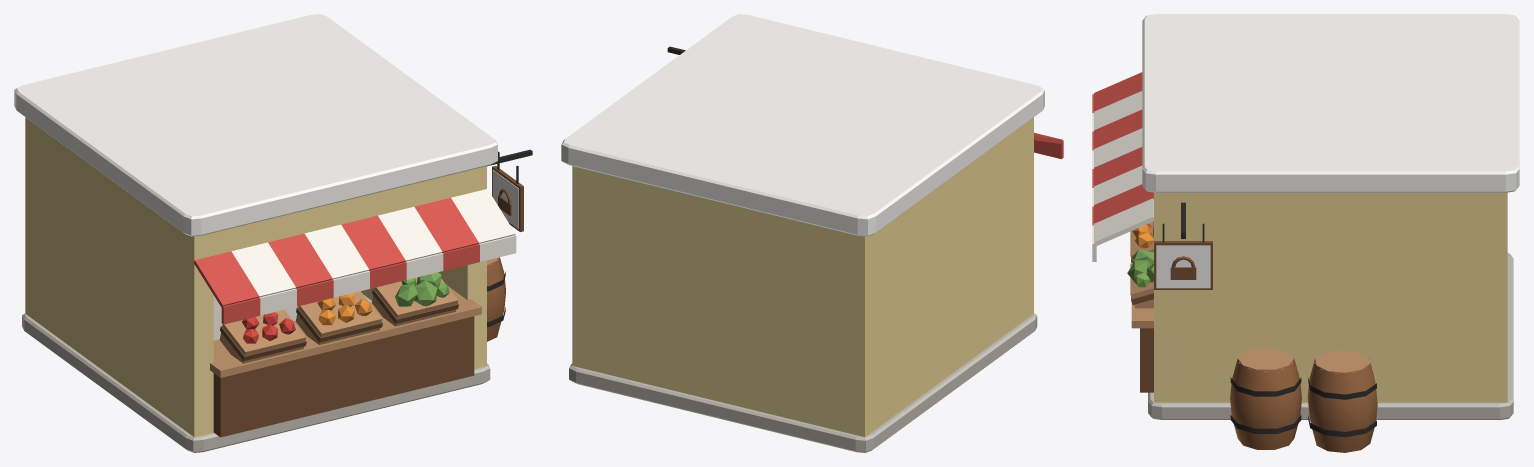
Rendered from market_hall.glb.
3 renders of one model, left to right at view 1: azimuth 30°, elevation 25°; view 2: azimuth 150°, elevation 25°; view 3: azimuth 270°, elevation 25°, orthographic. The views are drawn at different scales.
Visible parts, largest first — view 1: roof_slab, wall_left, awning, counter_body, plinth, front_fascia, counter_top, wall_right, wall_back, crate_apples_box, crate_oranges_box, crate_greens_box (+5 smaller); view 2: roof_slab, wall_back, wall_left, plinth, awning; view 3: roof_slab, wall_right, awning, plinth, wall_back, barrel_0_body, barrel_1_body, sign_board, barrel_1_lid, barrel_0_lid, counter_body, barrel_0 (+4 smaller).
Boxes of the visible parts, <box> form: roof_slab: <box>14,14,497,236</box>; wall_left: <box>36,125,213,437</box>; awning: <box>194,189,516,324</box>; counter_body: <box>213,316,474,437</box>; plinth: <box>22,295,490,452</box>; front_fascia: <box>213,171,467,255</box>; counter_top: <box>210,286,481,377</box>; wall_right: <box>361,166,486,368</box>; wall_back: <box>25,117,36,321</box>; crate_apples_box: <box>219,310,305,363</box>; crate_oranges_box: <box>295,291,381,344</box>; crate_greens_box: <box>372,277,457,326</box>; roof_slab: <box>561,14,1044,236</box>; wall_back: <box>572,166,876,437</box>; wall_left: <box>876,117,1033,428</box>; plinth: <box>569,313,1037,452</box>; awning: <box>1033,132,1063,159</box>; roof_slab: <box>1142,14,1519,192</box>; wall_right: <box>1154,192,1484,402</box>; awning: <box>1092,72,1153,261</box>; plinth: <box>1148,253,1513,419</box>; wall_back: <box>1484,192,1507,402</box>; barrel_0_body: <box>1230,359,1301,449</box>; barrel_1_body: <box>1307,358,1377,452</box>; sign_board: <box>1156,245,1210,288</box>; barrel_1_lid: <box>1314,350,1370,373</box>; barrel_0_lid: <box>1239,347,1292,371</box>; counter_body: <box>1140,328,1153,392</box>; barrel_0: <box>1230,377,1301,433</box>.
Size of the model in its own units: 3.85 by 2.35 by 3.62.
